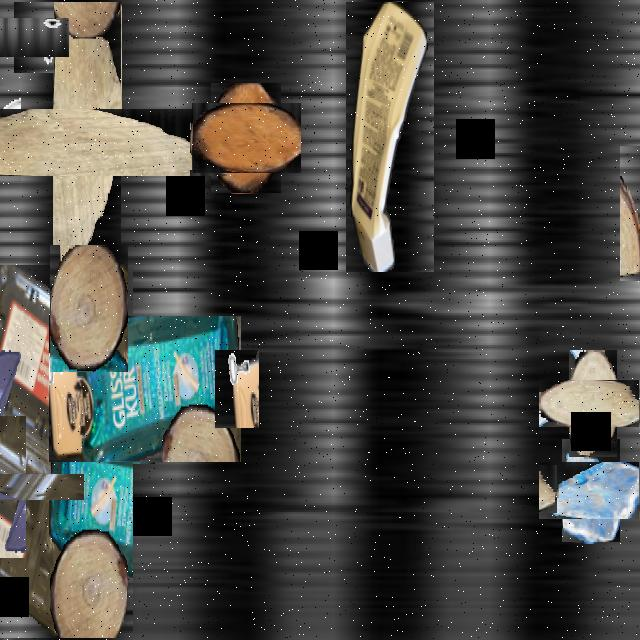glass: (551, 450, 631, 531), (0, 445, 55, 529)
metal: (215, 351, 259, 428), (6, 10, 62, 65), (0, 92, 21, 182)
plastic: (0, 265, 133, 638), (49, 316, 241, 462), (346, 2, 434, 272)
wood: (0, 55, 174, 229), (50, 245, 128, 374), (201, 94, 291, 184), (554, 365, 632, 442), (620, 146, 640, 281)
